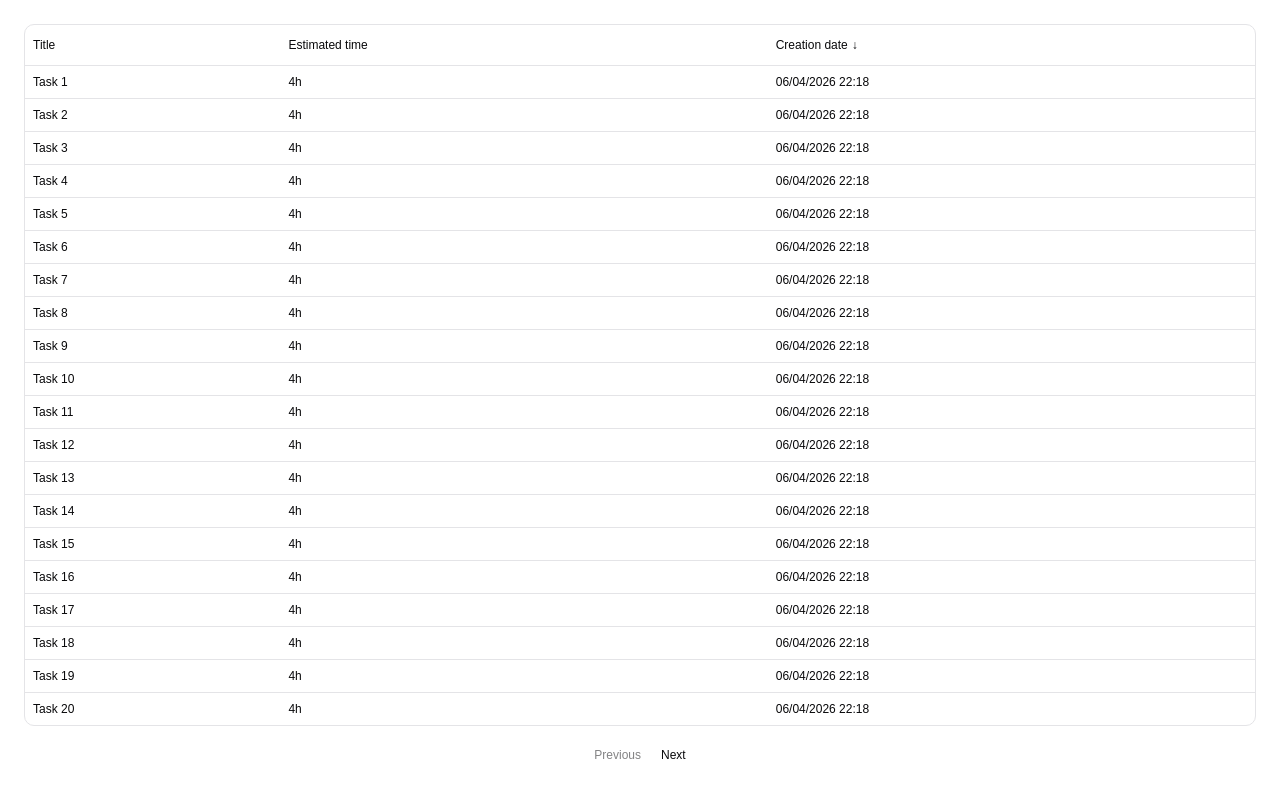
Test case: TasksPage — pagination navigation › clicking Previous returns to page 1
Expected: the text "Task 1" is shown, [25, 65, 280, 98]
Click the button with aria-label "go to next page".
click(673, 755)  # box [661, 748, 686, 762]
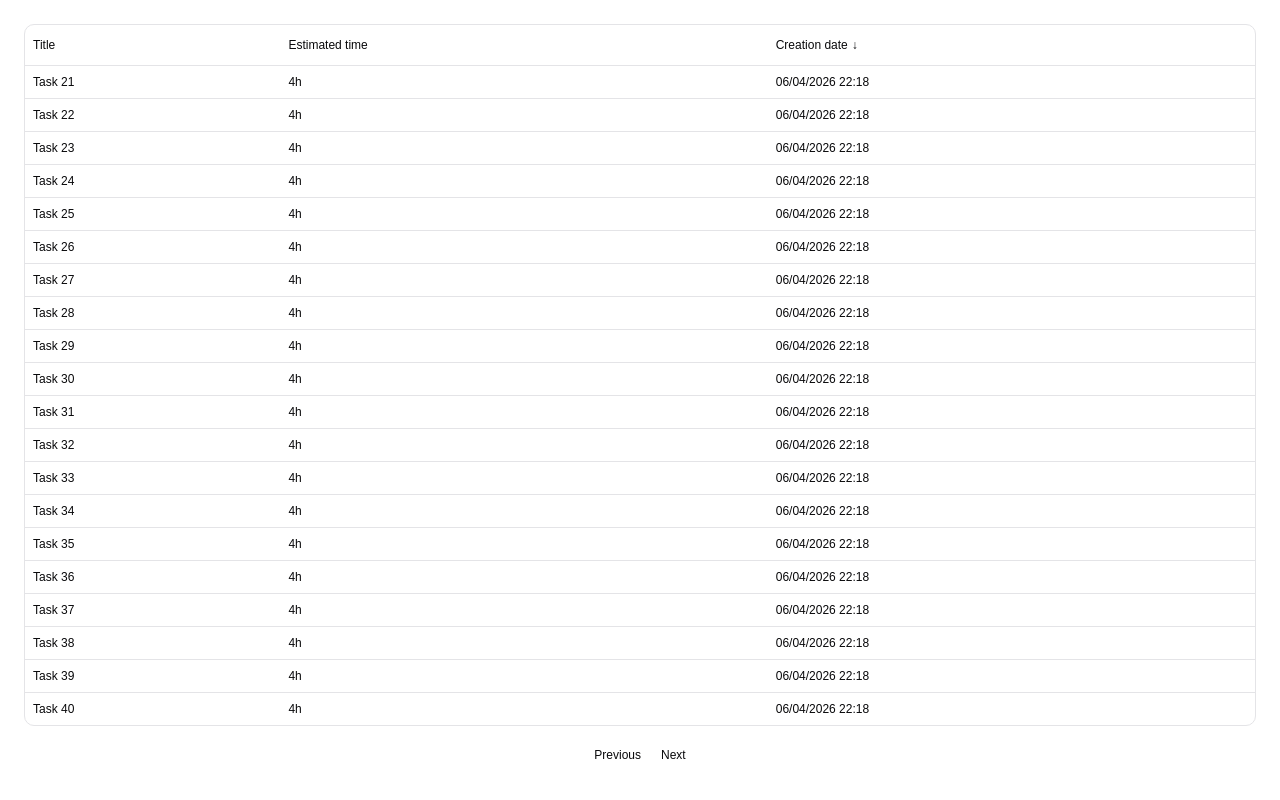
Expected: the text "Task 21" is shown, [25, 65, 280, 98]
Click the button with aria-label "go to previous page".
click(618, 755)  # box [594, 748, 641, 762]
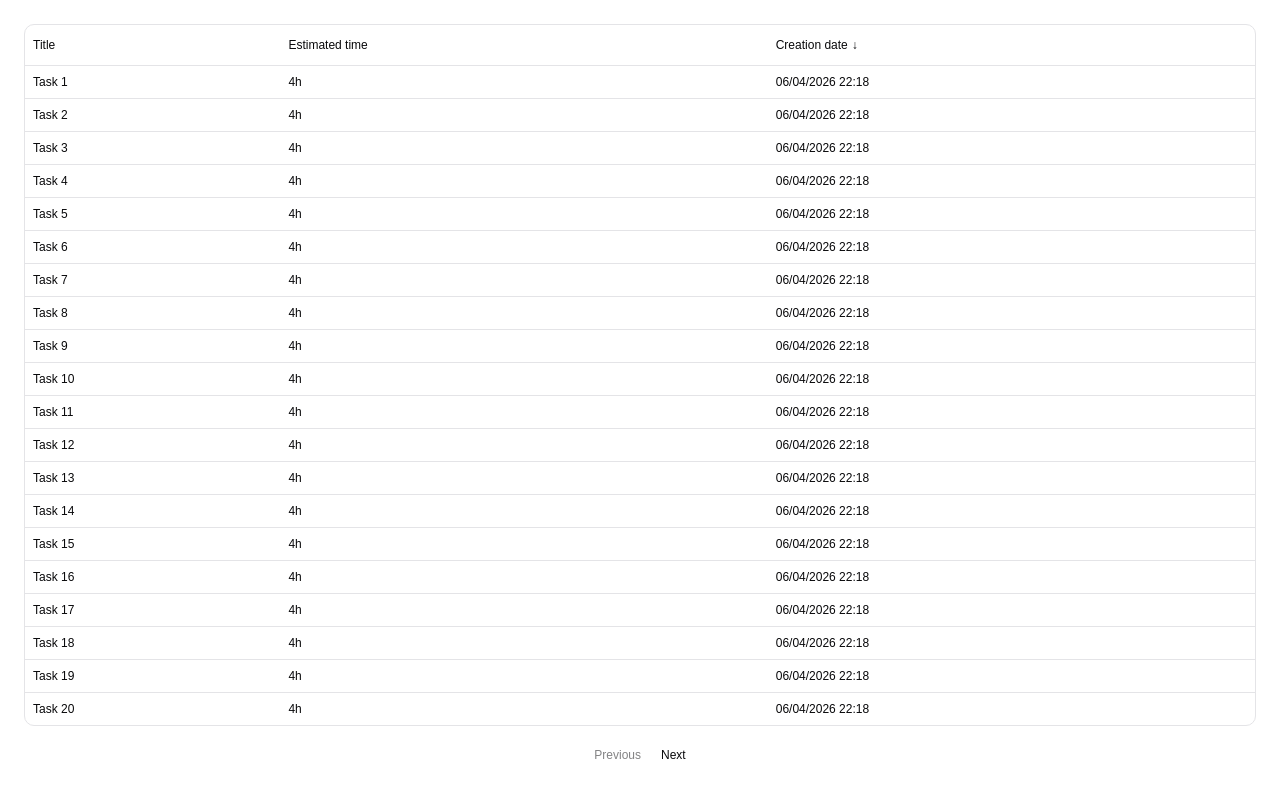
Expected: the text "Task 1" is shown, [25, 65, 280, 98]
Expected: the text "Task 21" is gone
